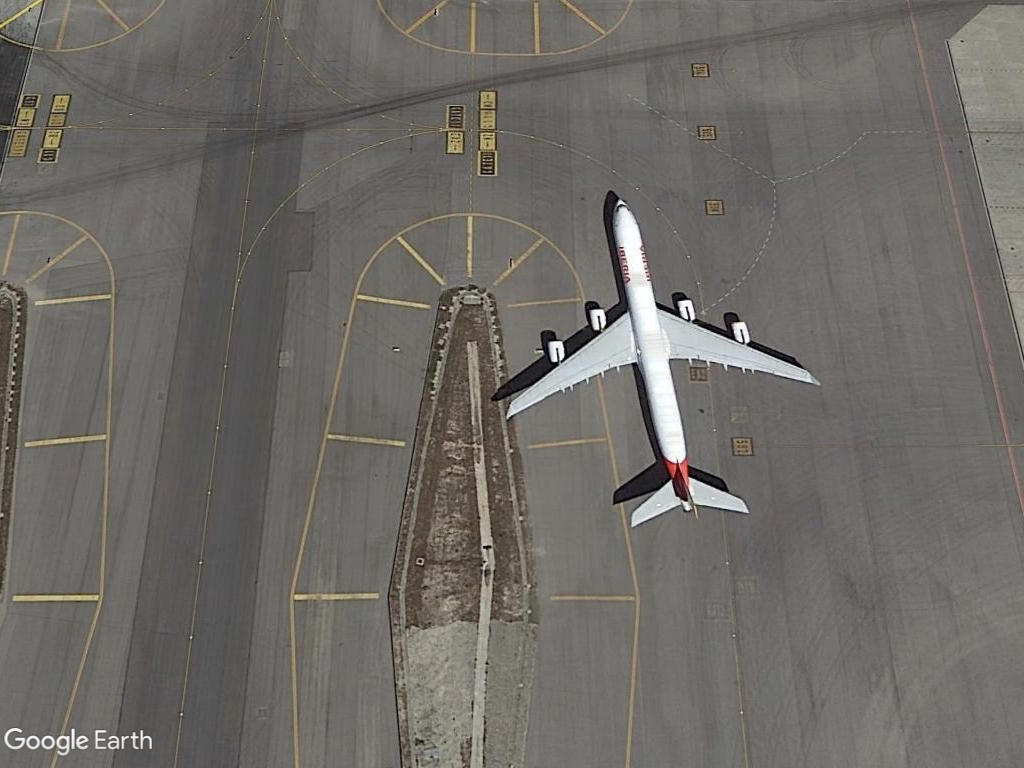airliner: (495, 194, 824, 532)
